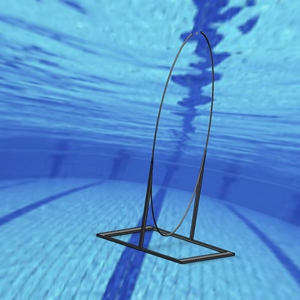circle: (94, 30, 235, 265)
